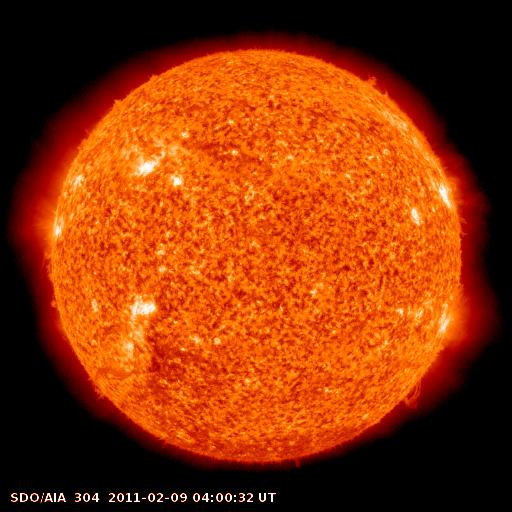prominence: (30, 243, 73, 319), (73, 362, 133, 414), (389, 366, 436, 422), (355, 60, 401, 111)
